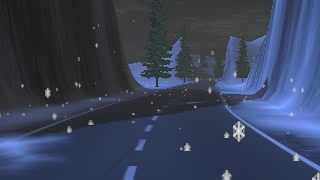Lane: (1, 78, 319, 179)
